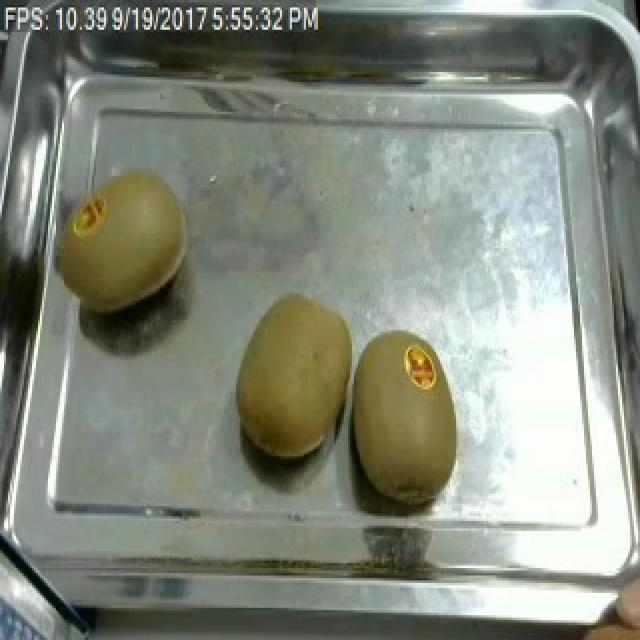Fruit: (44, 159, 200, 325), (338, 325, 468, 511), (228, 288, 360, 469), (556, 573, 640, 640), (548, 610, 640, 640)
